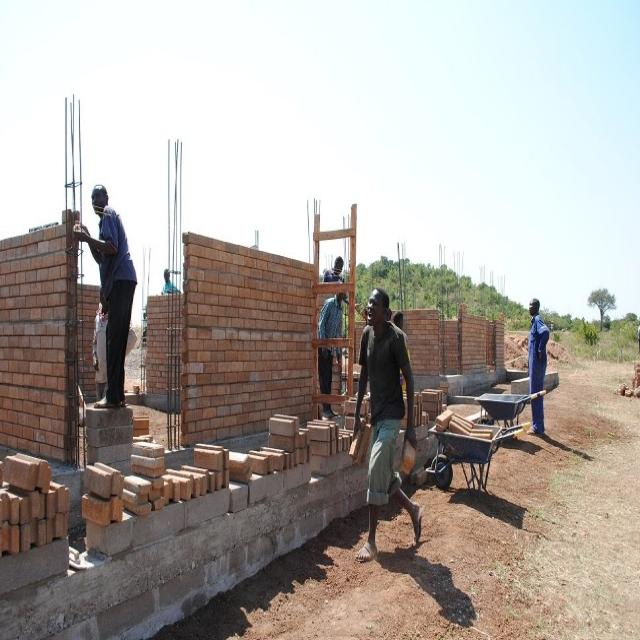no_boots: (408, 507, 426, 554), (351, 540, 382, 564), (96, 390, 127, 414), (527, 423, 547, 437)
no_gloves: (398, 419, 424, 458), (71, 226, 86, 245), (350, 418, 362, 438), (100, 290, 106, 327)
no_hardhat: (368, 285, 391, 330), (91, 185, 108, 217), (529, 294, 539, 317), (333, 257, 343, 279)
no_vest: (357, 319, 413, 412), (80, 212, 138, 301), (318, 297, 343, 349), (530, 322, 552, 378)
person: (350, 292, 426, 560), (74, 180, 139, 416), (315, 276, 352, 427), (522, 294, 550, 443)
